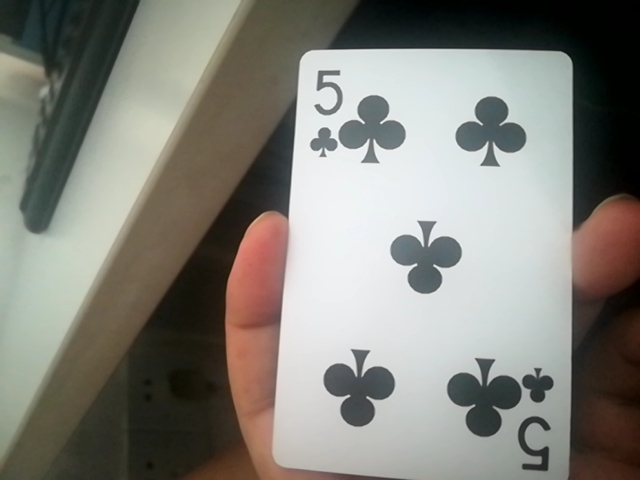mh 5: (273, 54, 578, 476)
